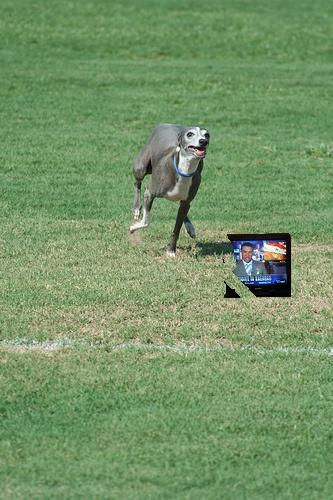tampered: (224, 234, 291, 298)
